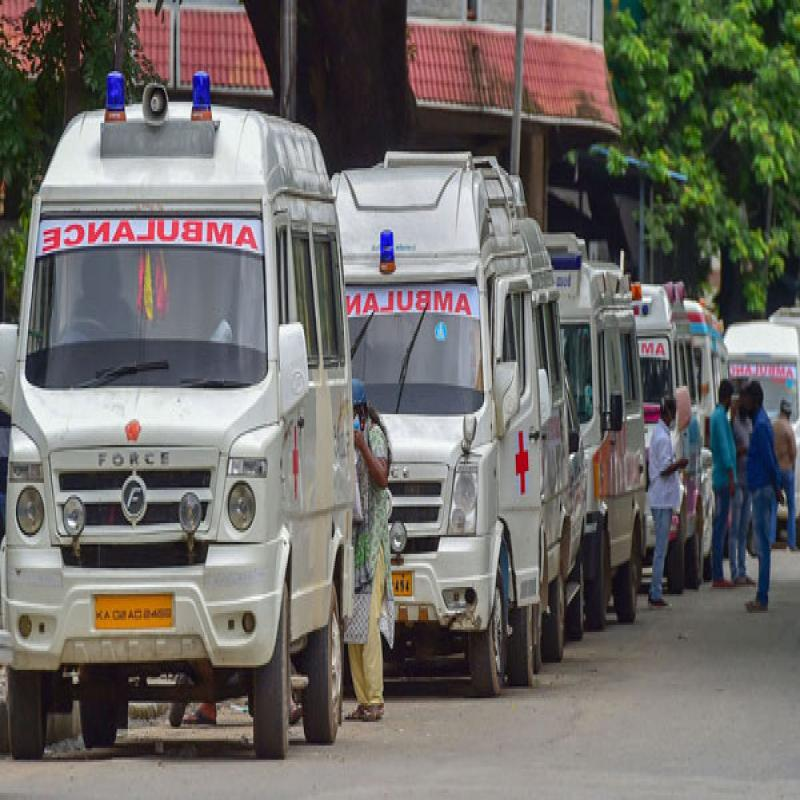ambulance: (15, 118, 352, 722), (364, 169, 537, 690)
